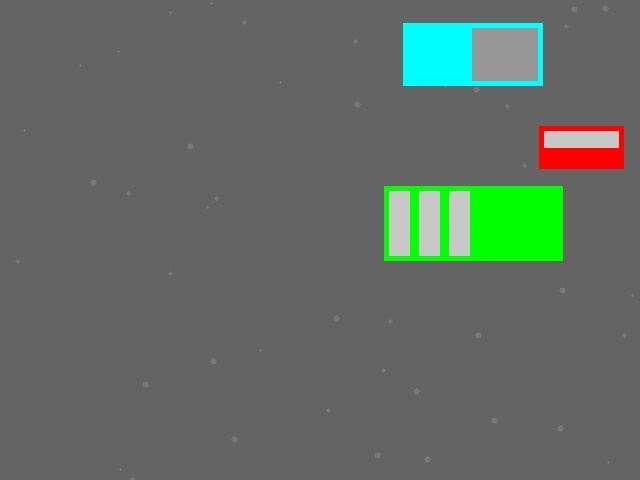bus: (384, 186, 562, 260)
car: (539, 126, 623, 168)
truck: (403, 23, 542, 85)
